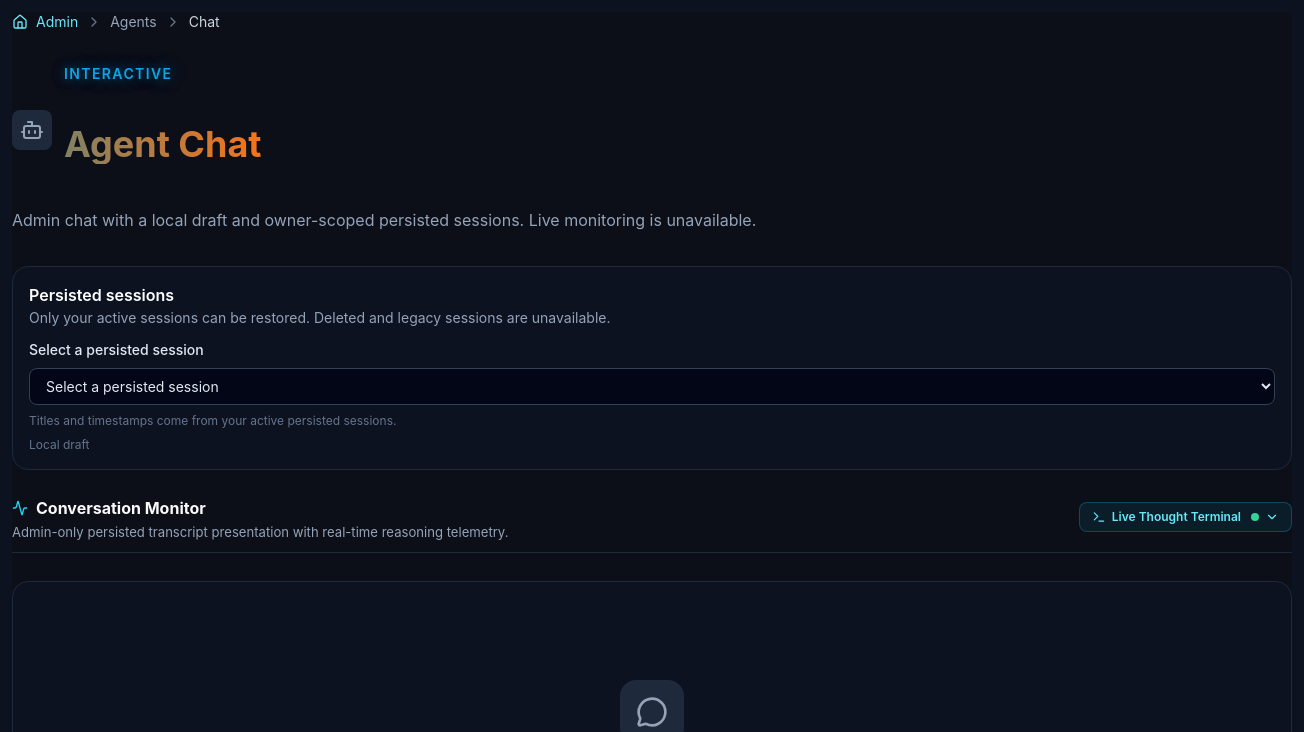
Test: Admin agent chat session restore › loads owned sessions and restores selected history
Select "Saved session — 9/2/2026, 1:00:00 AM" in the dropdown labelled "Select a persisted session" at (652, 387), box [29, 368, 1275, 405]
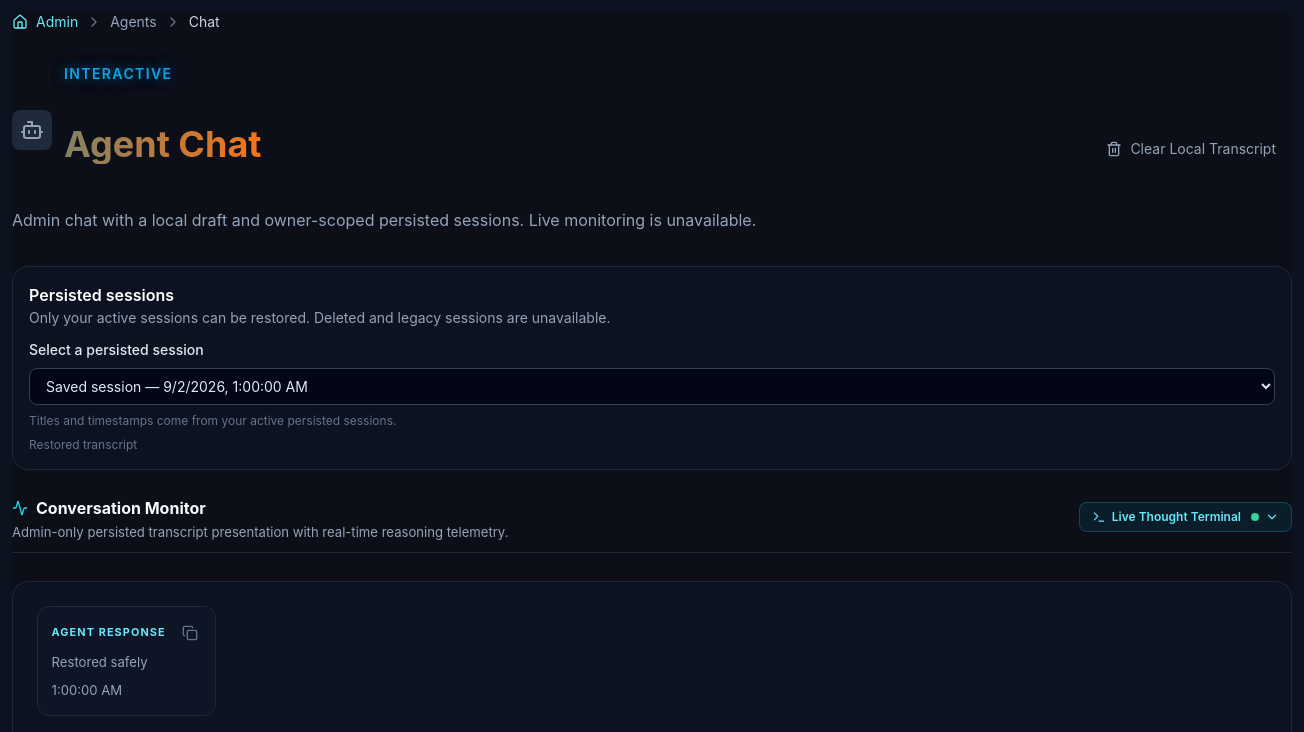
Expected: the text "Restored safely" is shown, [52, 654, 148, 670]
